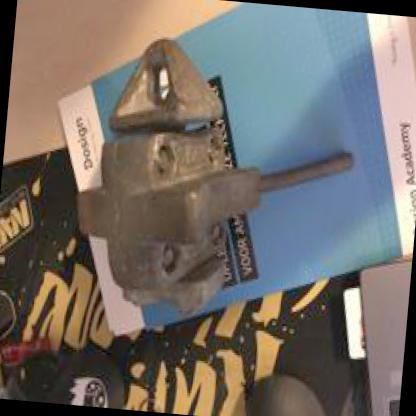Twistlock: (52, 23, 380, 354)
